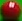red: (0, 0, 22, 21)
